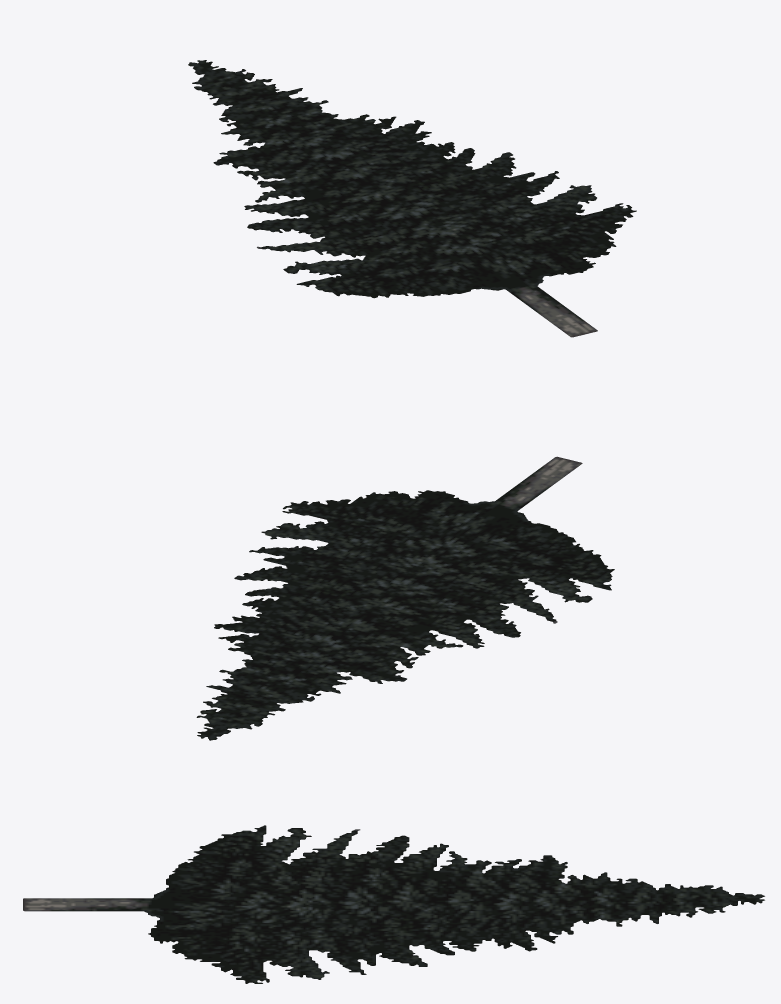
The model's file is SM_EC_Tree_Card_00.fbx.
3 renders of one model, top to bottom at view 1: azimuth 30°, elevation 25°; view 2: azimuth 150°, elevation 25°; view 3: azimuth 270°, elevation 25°, orthographic.
Parts seen in each view (by area): view 1: SM_EC_Tree_Card_00; view 2: SM_EC_Tree_Card_00; view 3: SM_EC_Tree_Card_00.
Boxes of the visible parts, x1=… form: SM_EC_Tree_Card_00: x1=188, y1=60, x2=636, y2=337; SM_EC_Tree_Card_00: x1=196, y1=456, x2=614, y2=740; SM_EC_Tree_Card_00: x1=23, y1=825, x2=764, y2=983.
Bounding box in the file's own units: 2.15 × 3.86 × 2.42e-09.
